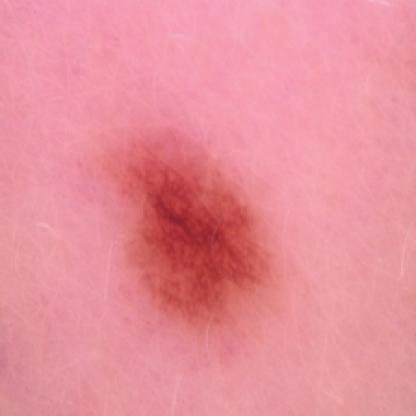benign: (117, 136, 277, 328)
